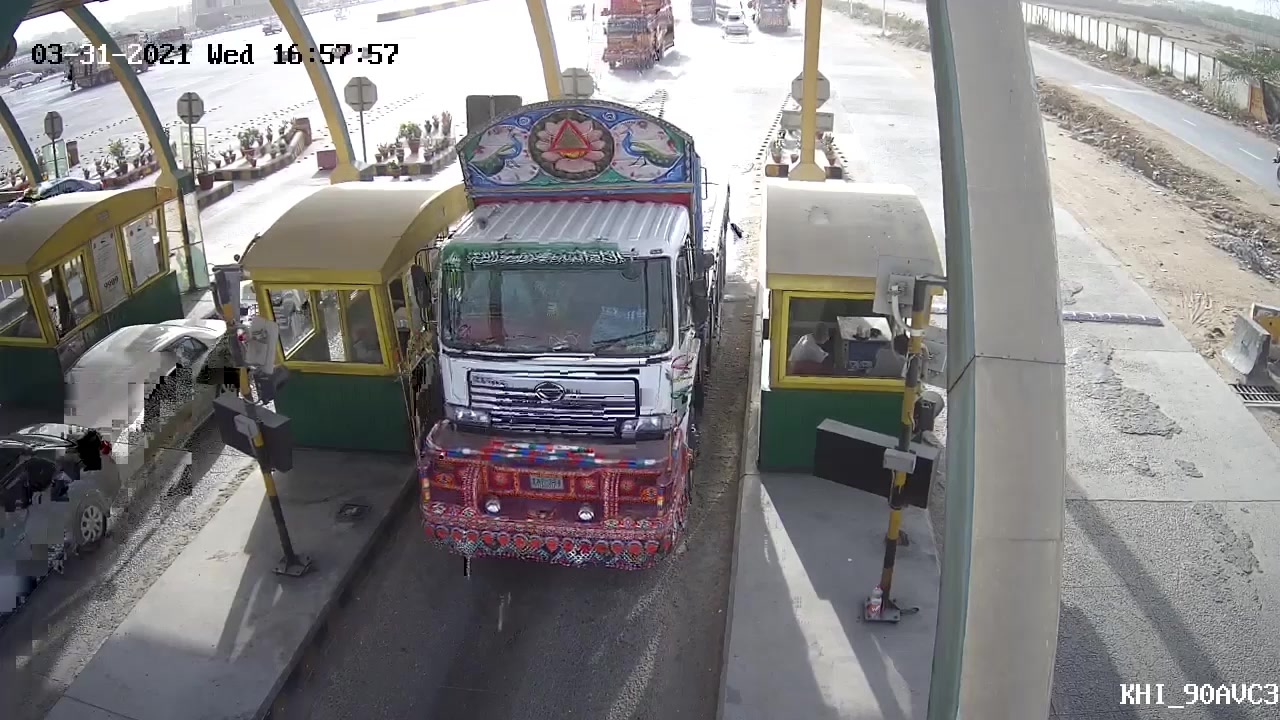F5: (408, 100, 737, 587)
